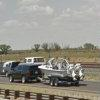Boat: (37, 55, 91, 87)
